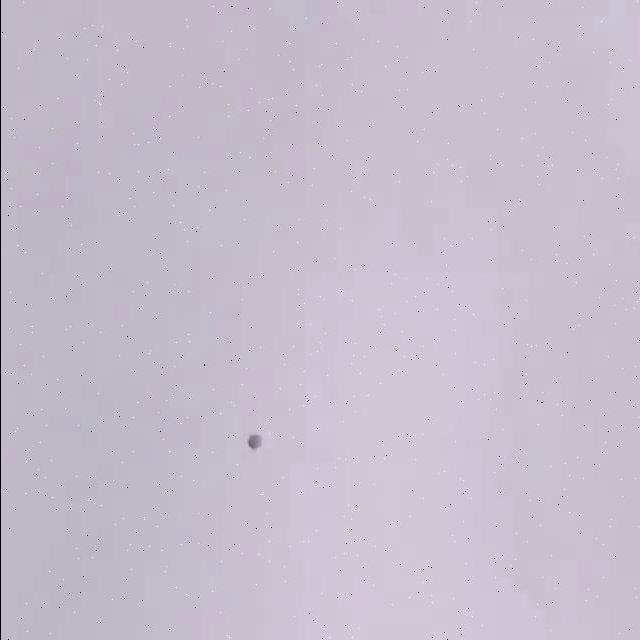GolfBall: (247, 434, 262, 449)
